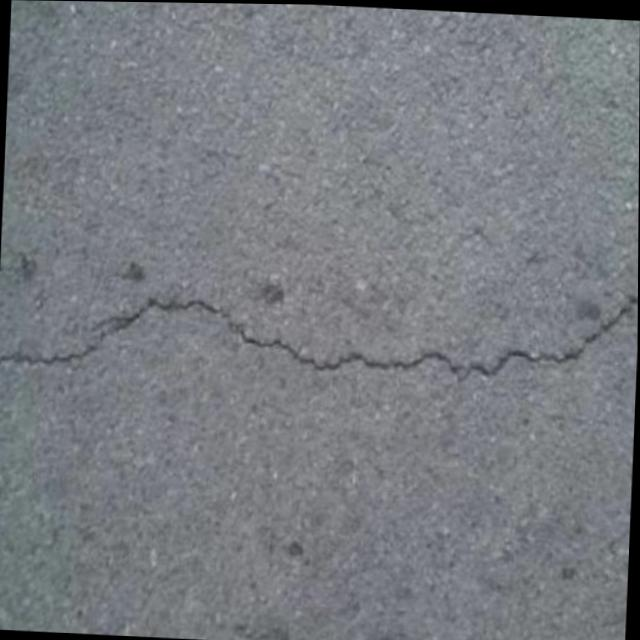Crack: (0, 285, 225, 376), (455, 288, 634, 390), (228, 324, 455, 388)
